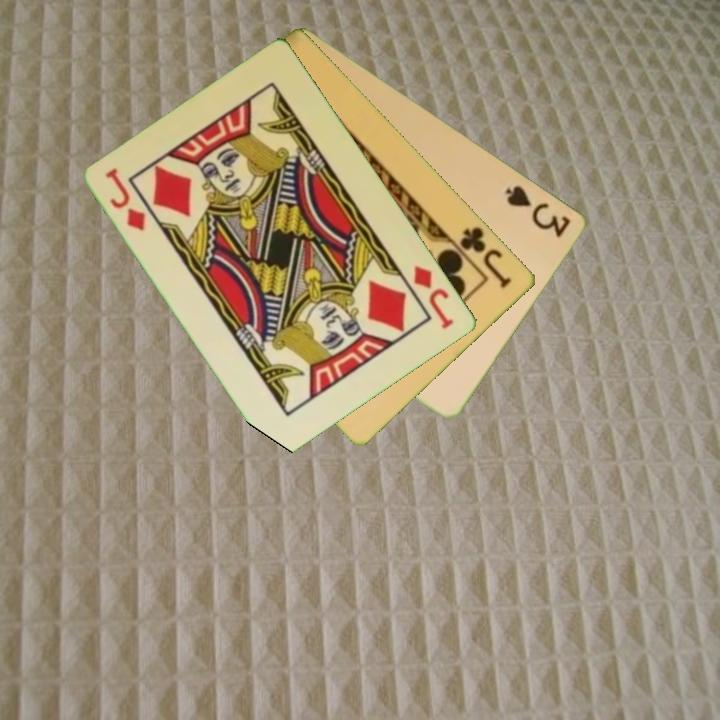3s: (502, 181, 574, 240)
Jc: (448, 223, 515, 292)
Jd: (410, 262, 458, 333), (102, 164, 150, 235)
